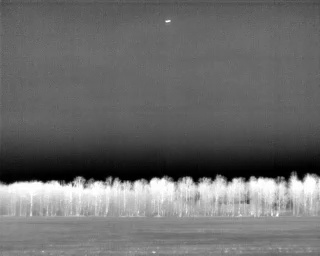DRONE: (162, 17, 174, 27)
